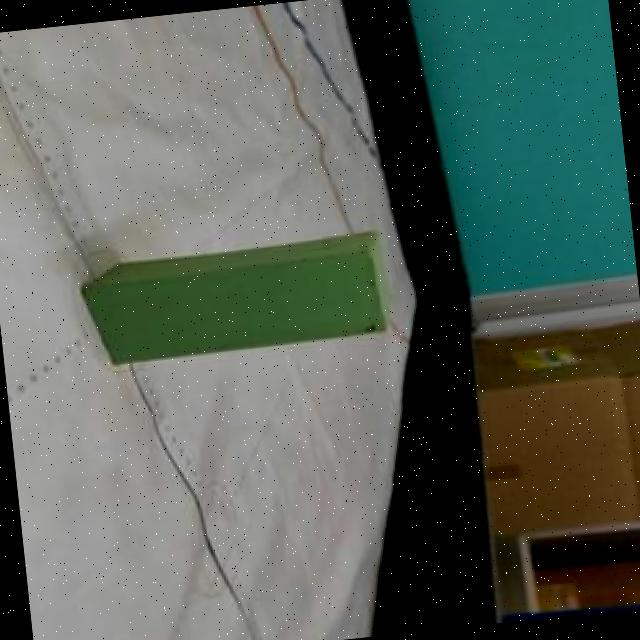greenbox: (73, 230, 389, 368)
